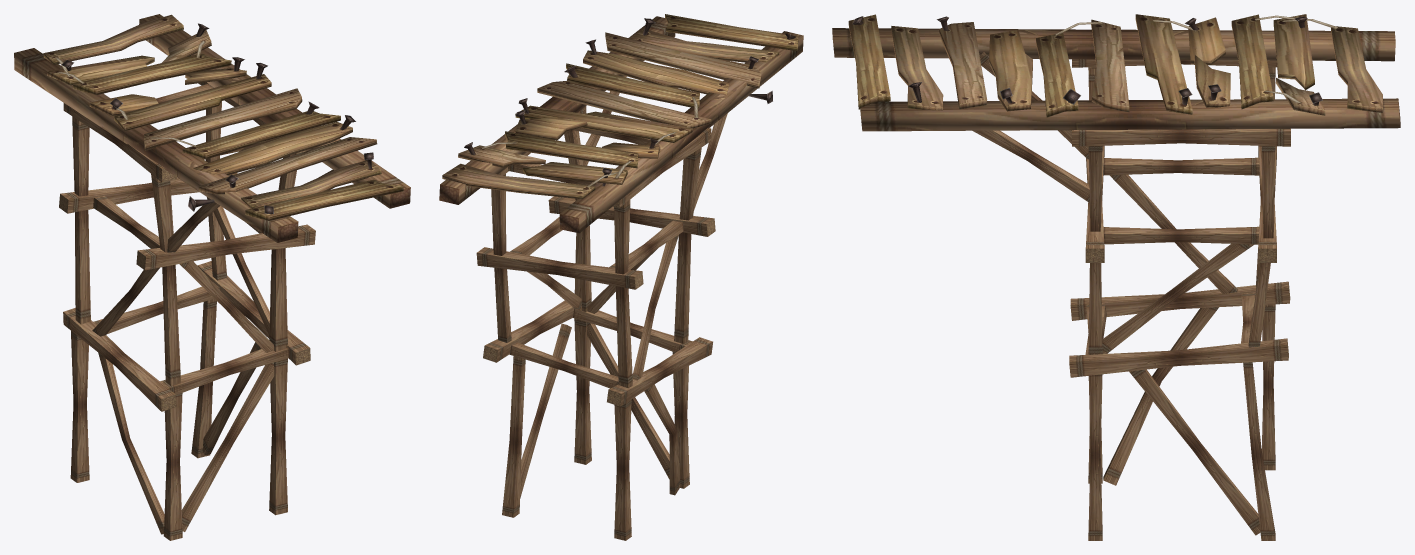
The model's file is environment_common_mudiaoqiao_002_a.FBX.
The picture shows the model from 3 angles, left to right: view 1: azimuth 30°, elevation 25°; view 2: azimuth 150°, elevation 25°; view 3: azimuth 270°, elevation 25°; orthographic projection. The views are drawn at different scales.
Parts seen in each view (by area): view 1: environment_common_mudiaoqiao_001_a, environment_common_mudiaoqiao_002_a; view 2: environment_common_mudiaoqiao_001_a, environment_common_mudiaoqiao_002_a; view 3: environment_common_mudiaoqiao_001_a, environment_common_mudiaoqiao_002_a.
Boxes of the visible parts, box(x1,y1,x2,y2) form: environment_common_mudiaoqiao_001_a: box(14, 14, 410, 540); environment_common_mudiaoqiao_002_a: box(43, 14, 403, 220); environment_common_mudiaoqiao_001_a: box(439, 16, 803, 540); environment_common_mudiaoqiao_002_a: box(442, 14, 798, 199); environment_common_mudiaoqiao_001_a: box(832, 16, 1400, 540); environment_common_mudiaoqiao_002_a: box(848, 14, 1382, 117).
Bounding box in the file's own units: 772 × 1680 × 1847.
